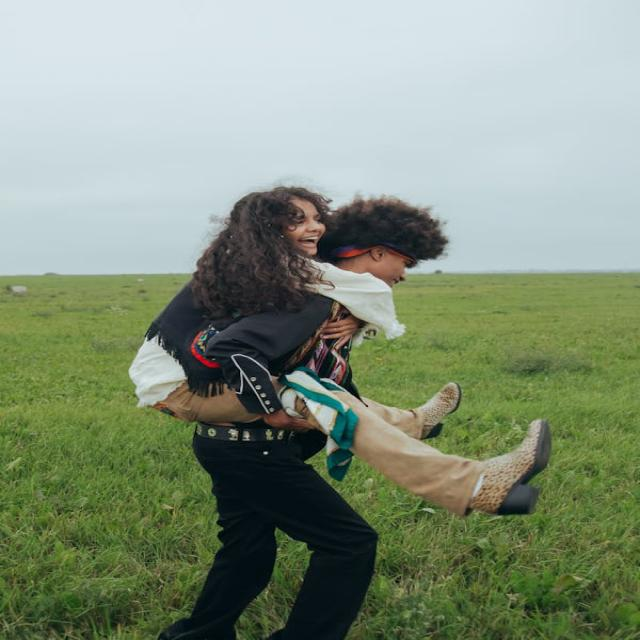Real human 2: (107, 166, 565, 640)
